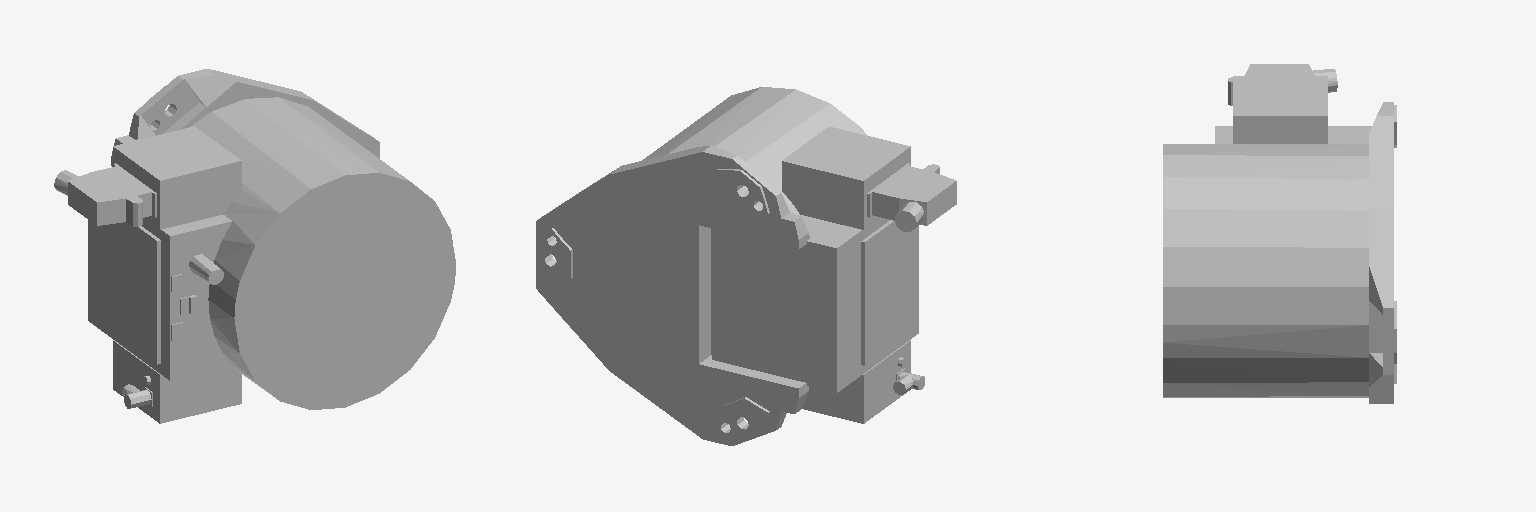
File: kuka_seg_0.obj
The picture shows the model from 3 angles: view 1: azimuth 30°, elevation 25°; view 2: azimuth 150°, elevation 25°; view 3: azimuth 270°, elevation 25°; orthographic projection.
Parts seen in each view (by area): view 1: Kuka_Seg_0; view 2: Kuka_Seg_0; view 3: Kuka_Seg_0.
Part boxes in pixels (x1,y1,x2,y2): Kuka_Seg_0: (54,69,455,423); Kuka_Seg_0: (536,87,956,445); Kuka_Seg_0: (1163,64,1396,403).
Size of the model in its own units: 26.94 by 21.1 by 15.63.